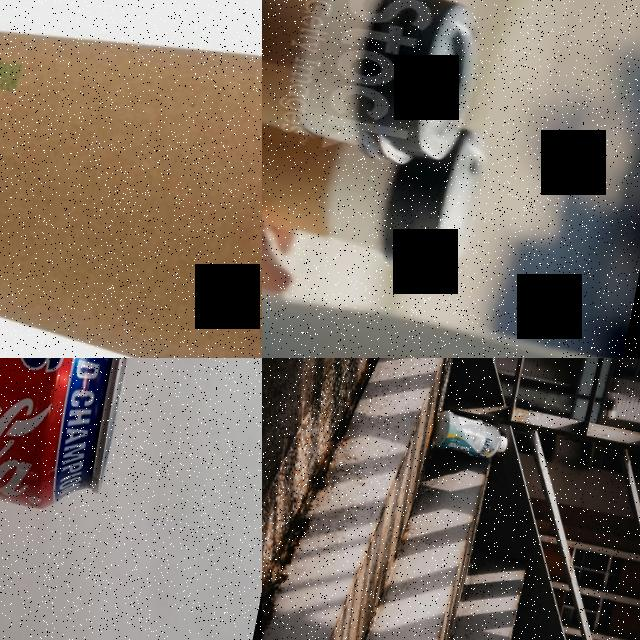bottle: (428, 409, 512, 465)
can: (0, 358, 157, 518)
cup: (0, 0, 262, 358), (262, 59, 495, 283), (262, 0, 487, 177)
